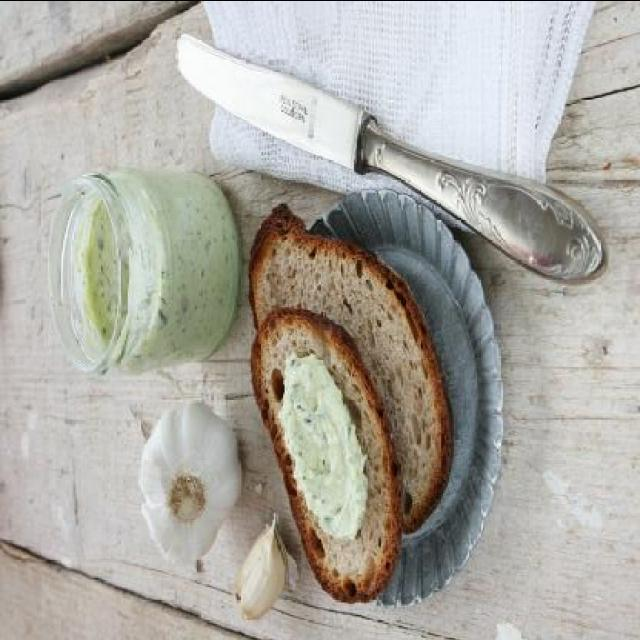Spread: (280, 350, 374, 538)
